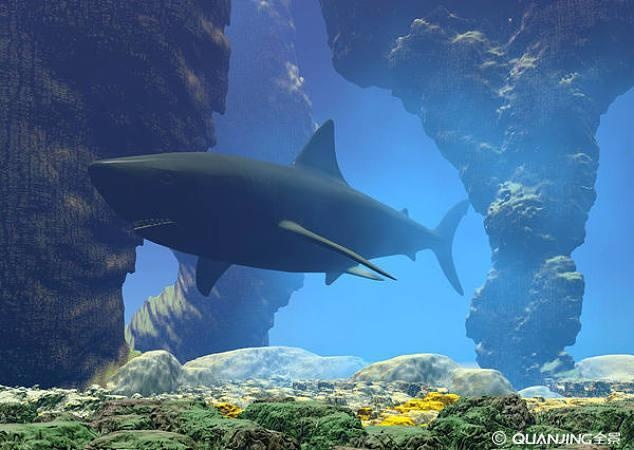fish: (84, 119, 470, 302)
